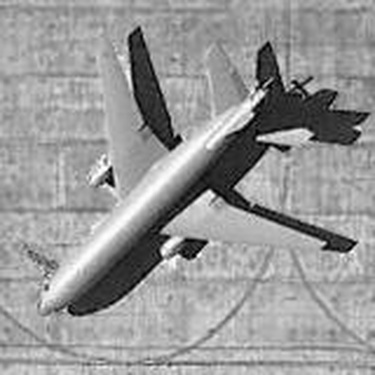airplane: (21, 27, 352, 329)
